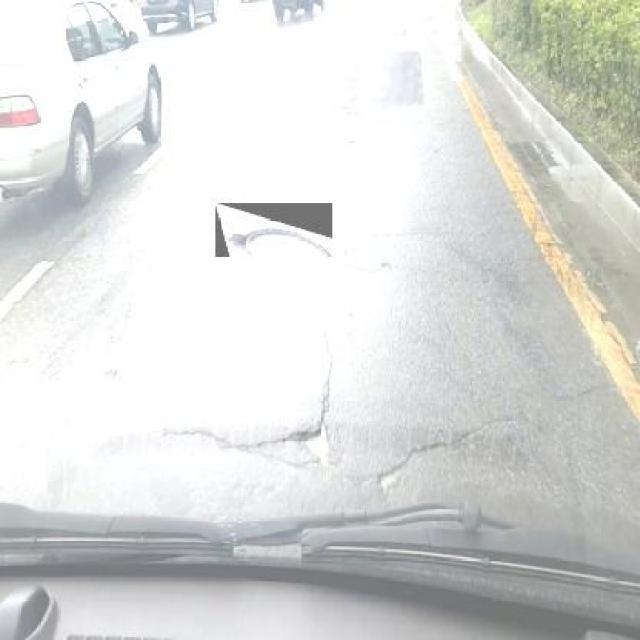Manhole: (215, 203, 332, 257), (506, 134, 566, 174)
Pothole: (245, 416, 359, 472), (372, 462, 404, 498)
